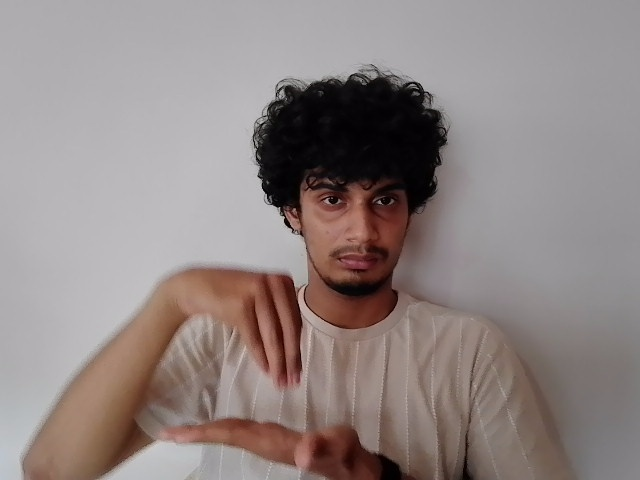learn: (175, 263, 366, 474)
